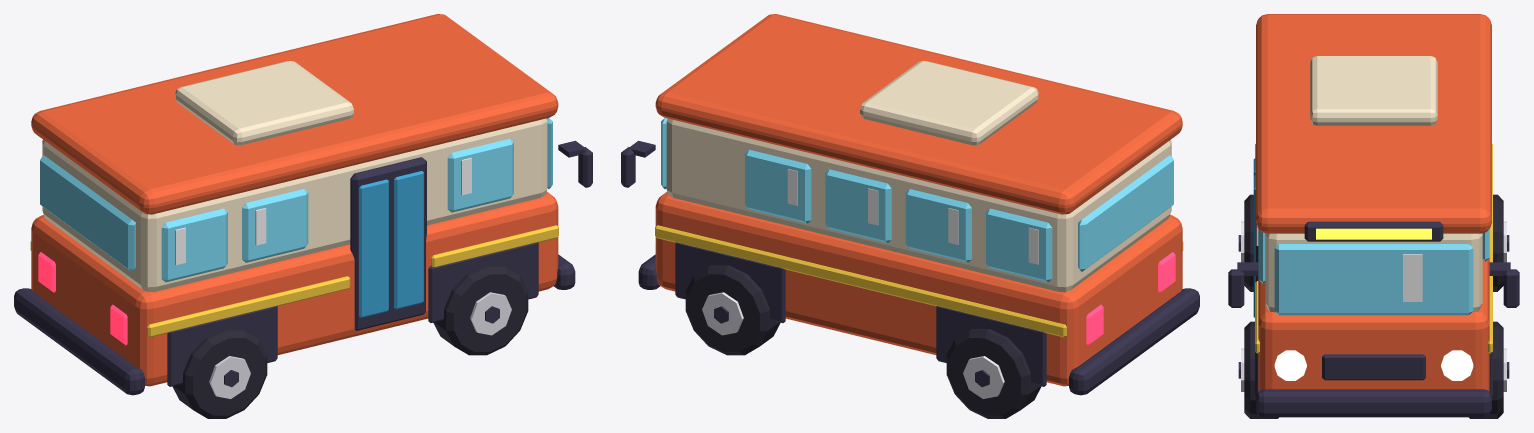
Rendered from bus.glb.
3 views of the same model, side by side, from view 1: azimuth 30°, elevation 25°; view 2: azimuth 150°, elevation 25°; view 3: azimuth 270°, elevation 25° (orthographic).
Visible parts, largest first — view 1: Body, Door.001, Wheel_1, Wheel_3; view 2: Body, Wheel_0, Wheel_2; view 3: Body, SignText, Wheel_0, Wheel_1, Wheel_2, Wheel_3, Door.001.
Part boxes in pixels (left/top/right/bottom): Body: left=14, top=14, right=592, bottom=395; Door.001: left=350, top=157, right=426, bottom=330; Wheel_1: left=433, top=265, right=528, bottom=355; Wheel_3: left=172, top=329, right=267, bottom=418; Body: left=621, top=14, right=1199, bottom=395; Wheel_0: left=685, top=265, right=780, bottom=355; Wheel_2: left=946, top=329, right=1041, bottom=418; Body: left=1228, top=14, right=1519, bottom=417; SignText: left=1316, top=228, right=1431, bottom=239; Wheel_0: left=1469, top=321, right=1509, bottom=418; Wheel_1: left=1238, top=321, right=1278, bottom=418; Wheel_2: left=1493, top=194, right=1509, bottom=291; Wheel_3: left=1238, top=194, right=1253, bottom=291; Door.001: left=1253, top=157, right=1258, bottom=317.
Bounding box in the file's own units: 4.5 × 2.42 × 2.52.
